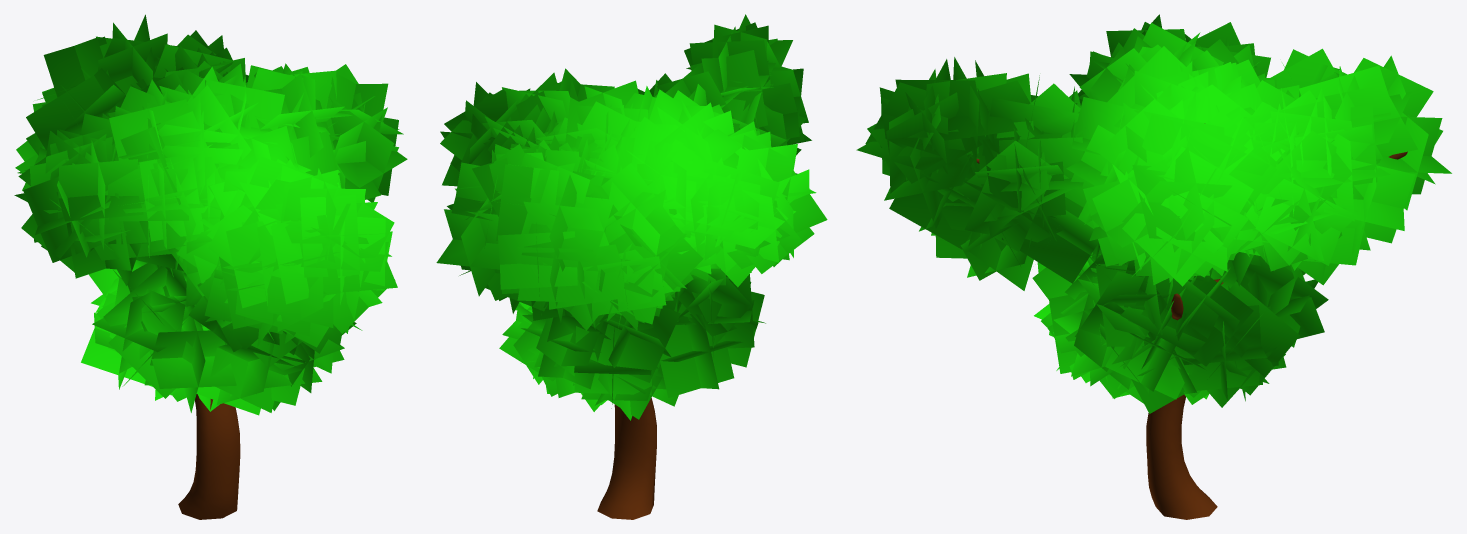
File: Tree1.fbx
3 renders of one model, left to right at view 1: azimuth 30°, elevation 25°; view 2: azimuth 150°, elevation 25°; view 3: azimuth 270°, elevation 25°, orthographic. The views are drawn at different scales.
Visible parts, largest first — view 1: Tree1_LOD0; view 2: Tree1_LOD0; view 3: Tree1_LOD0.
Boxes of the visible parts, box(x1,y1,x2,y2) form: Tree1_LOD0: box(14, 14, 407, 519); Tree1_LOD0: box(436, 14, 827, 519); Tree1_LOD0: box(856, 14, 1451, 519).
Size of what is drawn, in the model's own units: 1303 by 1433 by 1702.
